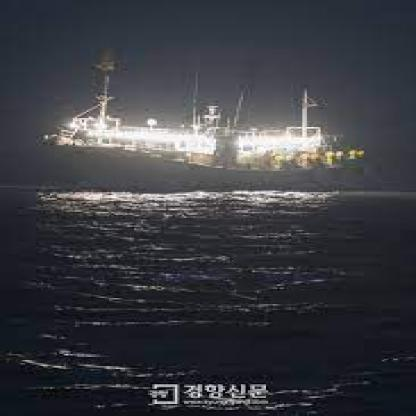Ship: (33, 43, 377, 198)
